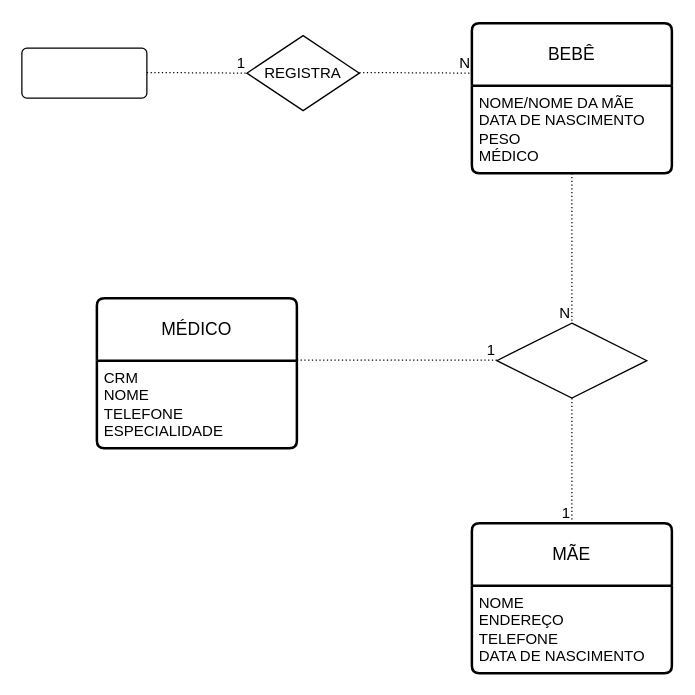
Some shapes in this 695 by 695 pixel diagram are drawn without their labels. Here are the shapes that lost their labels. From the top down, the centre of each, then its label:
At (84,72): "BERÇARIO".
At (571,360): "TEM".
